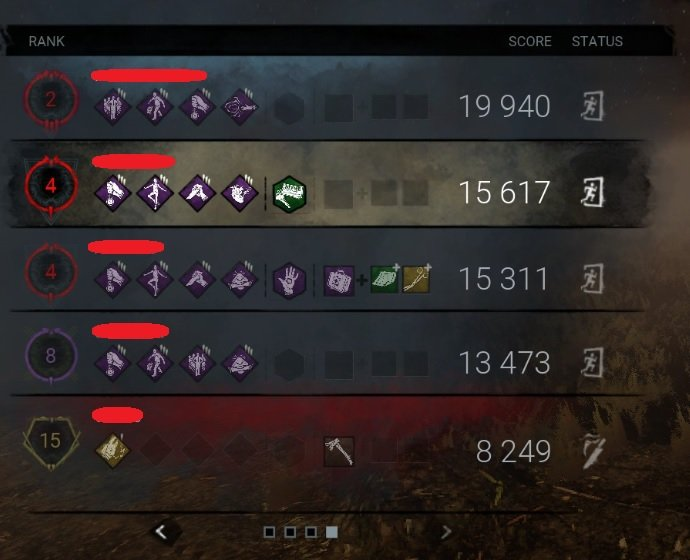adrenaline: (220, 173, 259, 212)
balanced_landing: (135, 173, 174, 212), (135, 260, 174, 299)
blank_perk: (134, 430, 173, 469), (177, 431, 216, 470), (221, 431, 260, 470)
borrowed_time: (178, 87, 217, 126), (93, 174, 132, 213), (92, 260, 131, 299), (92, 344, 131, 383)
decisive_strike: (178, 173, 217, 212), (178, 259, 217, 298)
hex:huntress_lullaby: (91, 430, 130, 469)
iron_will: (220, 259, 259, 298), (220, 344, 259, 383)
prove_thyself: (92, 86, 131, 125), (178, 345, 217, 384)
repressed_alliance: (220, 87, 259, 126)
were_gonna_live_forever: (135, 86, 174, 125), (135, 344, 174, 383)
